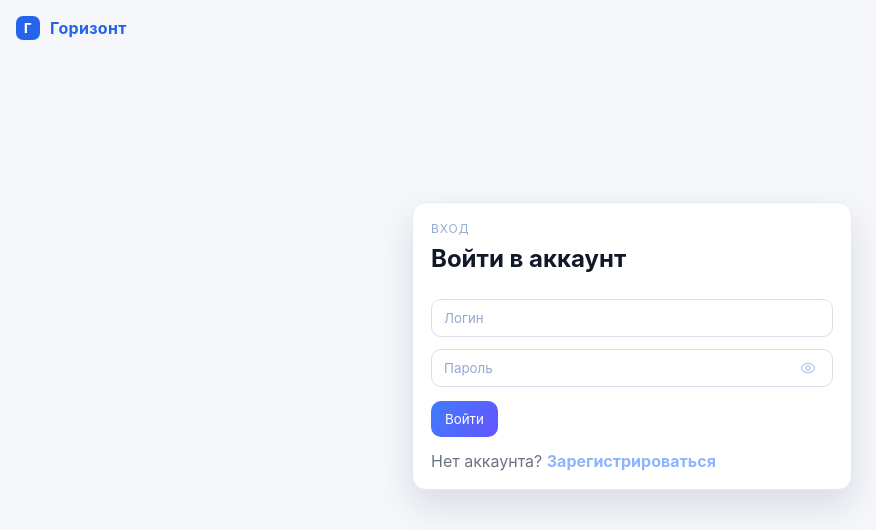
Test: App auth shell › toggles password visibility button label
The image size is (876, 530).
Click the button named "Показать пароль". click: (808, 368)
box: [791,351,825,385]
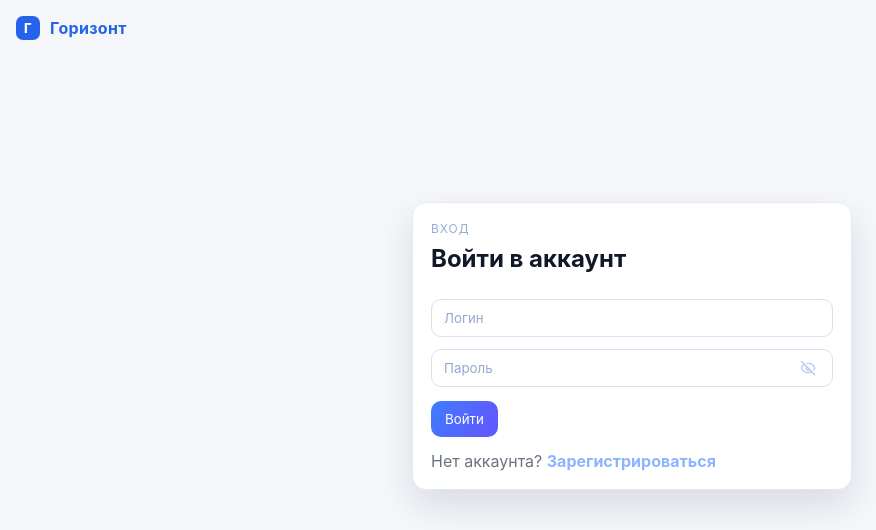
Expected: the button named "Скрыть пароль" is shown, [791,351,825,385]
